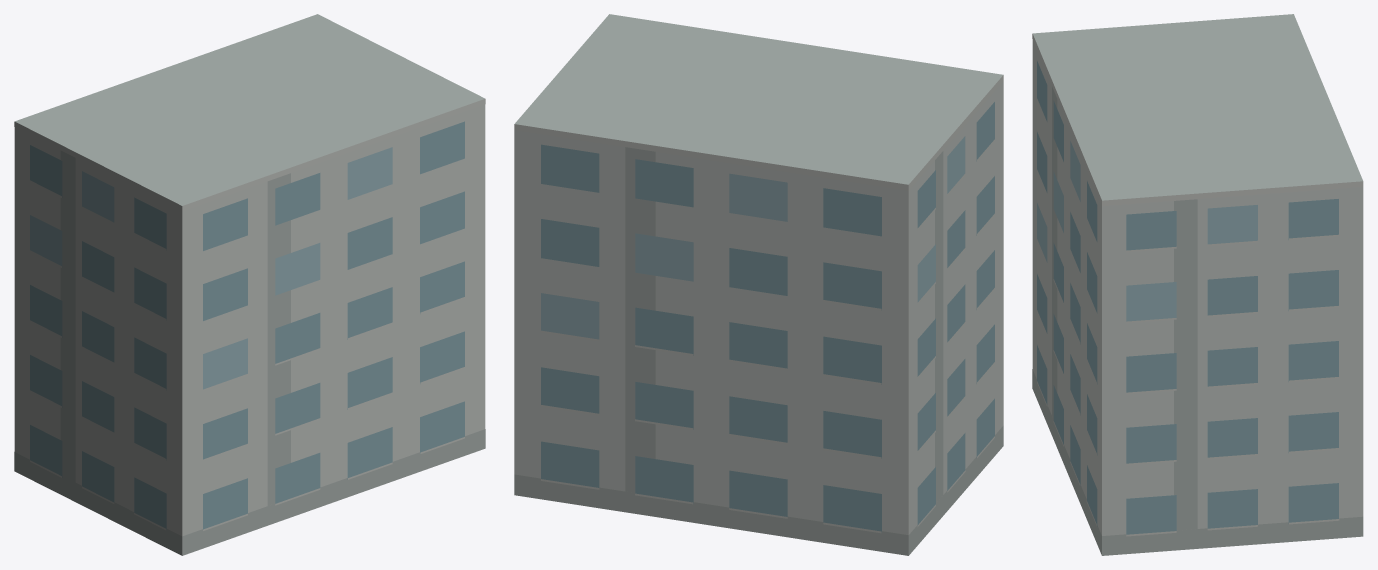
File: residential-96b9204f-d8cc-4130-8332-9a76242404f4.glb
The picture shows the model from 3 angles, left to right: view 1: azimuth 30°, elevation 25°; view 2: azimuth 150°, elevation 25°; view 3: azimuth 270°, elevation 25°; orthographic projection. The views are drawn at different scales.
Visible parts, largest first — view 1: residential-96b9204f-d8cc-4130-8332-9a76242404f4.tmp; view 2: residential-96b9204f-d8cc-4130-8332-9a76242404f4.tmp; view 3: residential-96b9204f-d8cc-4130-8332-9a76242404f4.tmp.
Boxes of the visible parts, x1,y1,x2,y2 form: residential-96b9204f-d8cc-4130-8332-9a76242404f4.tmp: (14,14,485,555); residential-96b9204f-d8cc-4130-8332-9a76242404f4.tmp: (514,14,1003,555); residential-96b9204f-d8cc-4130-8332-9a76242404f4.tmp: (1032,14,1363,555).
Bounding box in the file's own units: 17.19 × 15.25 × 12.88.
